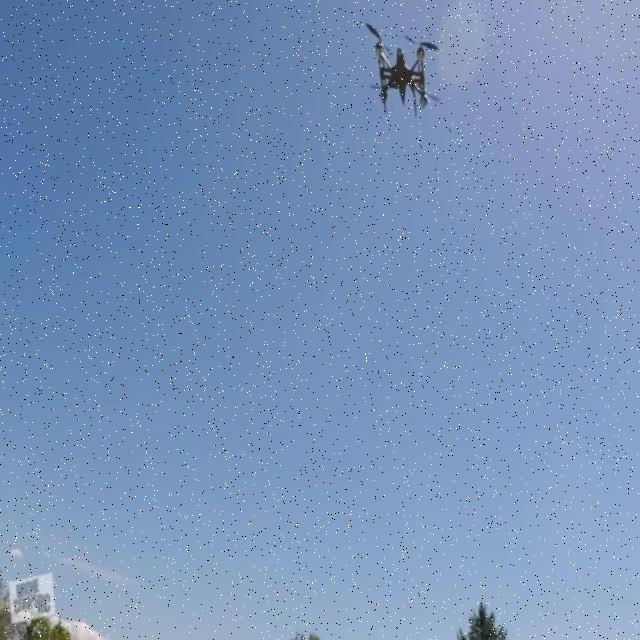UAV: (366, 23, 440, 118)
